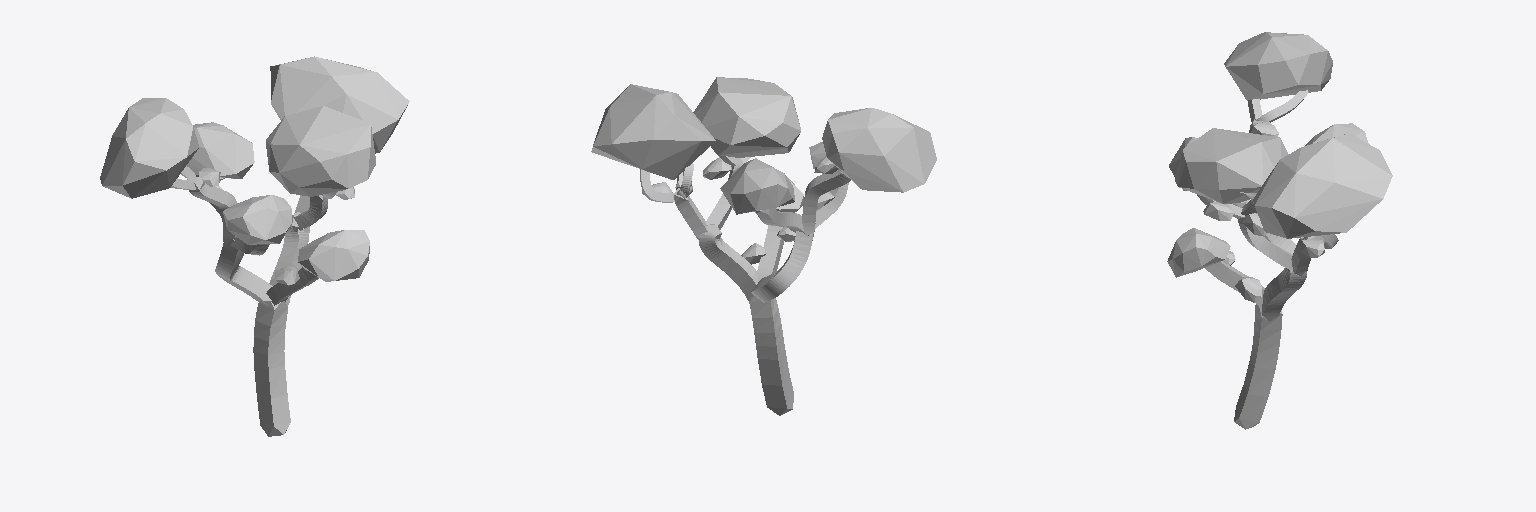
File: low_poly_fall_tree.obj
3 renders of one model, left to right at view 1: azimuth 30°, elevation 25°; view 2: azimuth 150°, elevation 25°; view 3: azimuth 270°, elevation 25°, orthographic.
Visible parts, largest first — view 1: s.0019, s.0030, s.0023, s.0012, s.0028, s.0020, s.0039, s.0011, s.0014, s.0037, s.0013, s.0035; view 2: s.0023, s.0030, s.0019, s.0012, s.0039, s.0014, s.0011, s.0037, s.0013, s.0034, s.0040, s.0036 (+1 smaller); view 3: s.0023, s.0019, s.0030, s.0012, s.0028, s.0014, s.0035, s.0013, s.0039.
Part boxes in pixels (x1,y1,x2,y2): s.0019: (266, 106, 375, 196); s.0030: (100, 98, 199, 198); s.0023: (270, 56, 409, 153); s.0012: (253, 301, 290, 436); s.0028: (298, 230, 369, 281); s.0020: (223, 195, 291, 244); s.0039: (186, 122, 254, 178); s.0011: (215, 239, 272, 305); s.0014: (269, 212, 309, 305); s.0037: (189, 177, 237, 245); s.0013: (266, 267, 318, 305); s.0035: (294, 195, 327, 228); s.0023: (591, 84, 715, 179); s.0030: (822, 108, 936, 192); s.0019: (693, 77, 800, 157); s.0012: (749, 295, 793, 415); s.0039: (720, 158, 794, 214); s.0014: (698, 224, 758, 300); s.0011: (751, 222, 815, 302); s.0037: (802, 170, 850, 235); s.0013: (757, 225, 784, 280); s.0034: (673, 188, 707, 239); s.0040: (756, 208, 803, 232); s.0036: (815, 183, 848, 228); s.0023: (1253, 133, 1392, 238); s.0019: (1175, 128, 1288, 203); s.0030: (1224, 32, 1332, 100); s.0012: (1234, 304, 1282, 429); s.0028: (1167, 228, 1230, 277); s.0014: (1262, 268, 1306, 321); s.0035: (1237, 218, 1292, 270); s.0013: (1205, 261, 1264, 309); s.0039: (1305, 123, 1368, 145).
Size of the model in its own units: 0.9772 by 1.02 by 0.6143.